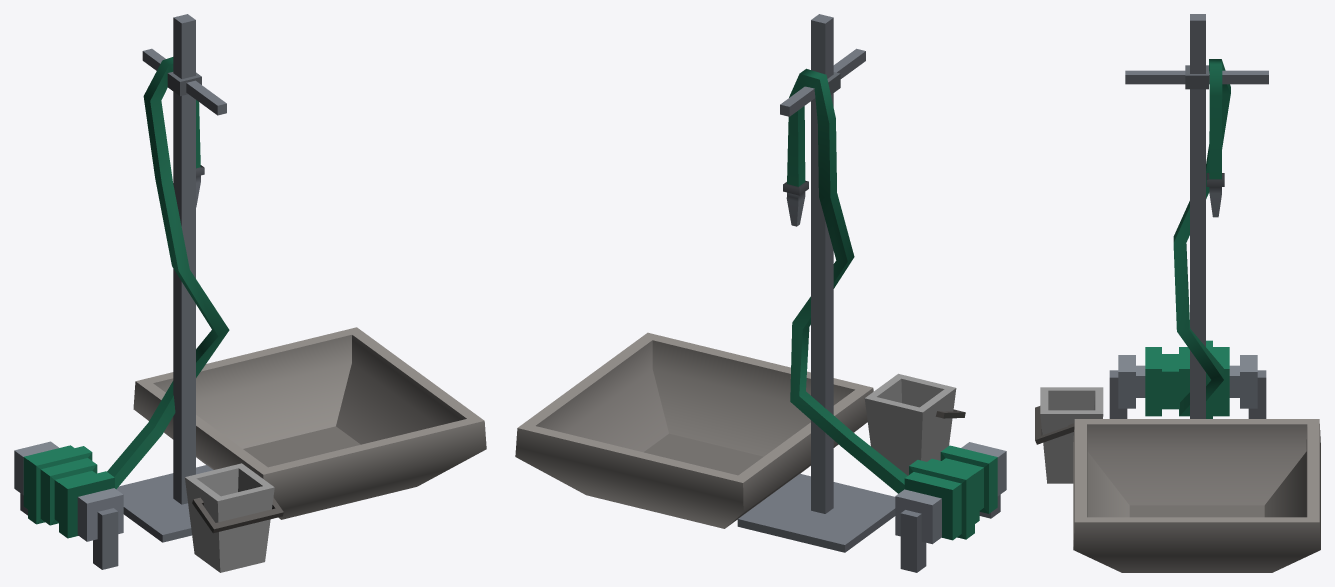
File: AI_Prop_Makeshift_Shower.fbx
3 renders of one model, left to right at view 1: azimuth 30°, elevation 25°; view 2: azimuth 150°, elevation 25°; view 3: azimuth 270°, elevation 25°, orthographic. The views are drawn at different scales.
Visible parts, largest first — view 1: AI_Prop_Makeshift_Shower; view 2: AI_Prop_Makeshift_Shower; view 3: AI_Prop_Makeshift_Shower.
Boxes of the visible parts, x1,y1,x2,y2 form: AI_Prop_Makeshift_Shower: [14, 14, 486, 572]; AI_Prop_Makeshift_Shower: [515, 14, 1006, 572]; AI_Prop_Makeshift_Shower: [1035, 14, 1320, 572].
Bounding box in the file's own units: 2.97 × 3.6 × 1.99.
